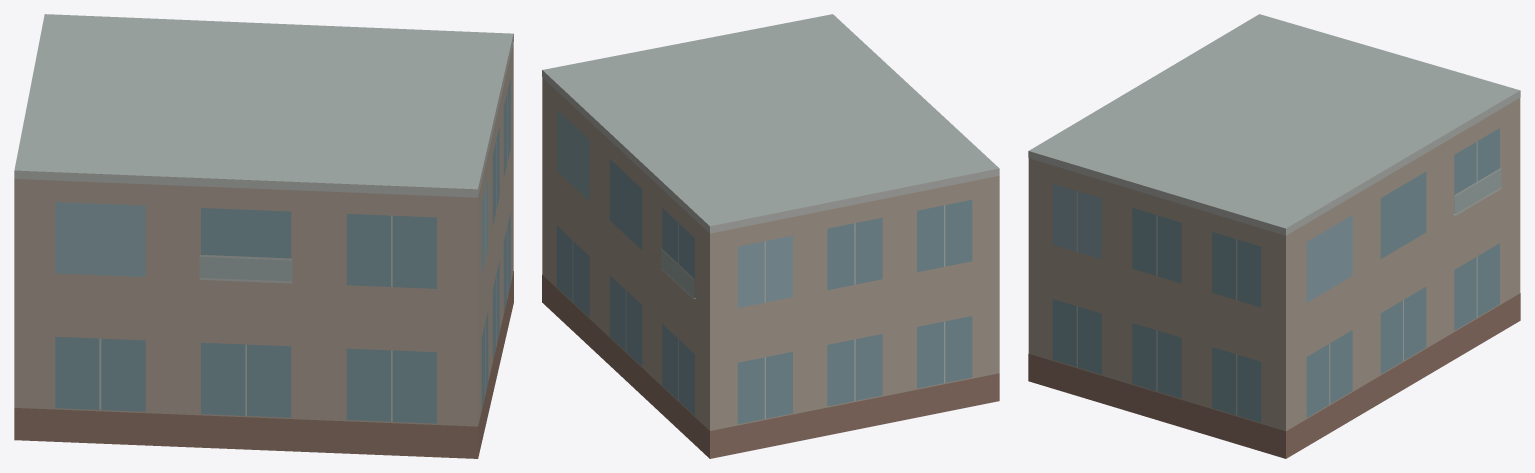
File: survey-upis-32915779.glb
The picture shows the model from 3 angles, left to right: view 1: azimuth 30°, elevation 25°; view 2: azimuth 150°, elevation 25°; view 3: azimuth 270°, elevation 25°; orthographic projection. The views are drawn at different scales.
Parts seen in each view (by area): view 1: survey-upis-32915779.tmp; view 2: survey-upis-32915779.tmp; view 3: survey-upis-32915779.tmp.
Boxes of the visible parts, left/top/right/bottom form: survey-upis-32915779.tmp: left=14, top=14, right=513, bottom=458; survey-upis-32915779.tmp: left=542, top=14, right=999, bottom=458; survey-upis-32915779.tmp: left=1028, top=14, right=1520, bottom=458.
Size of the model in its own units: 15.7 by 7.85 by 15.21.
